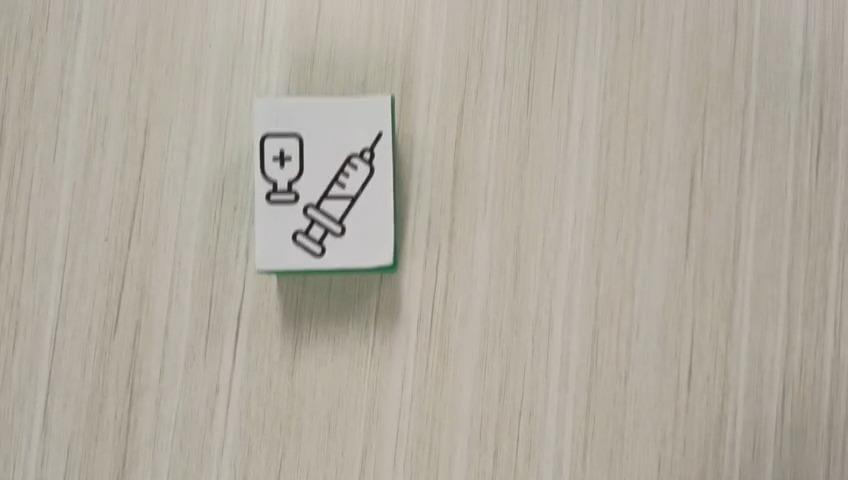antiseptic cream: (251, 93, 396, 274)
